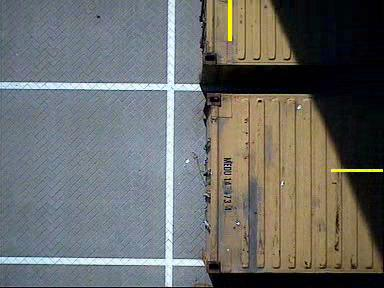groundmarker_2: (121, 35, 225, 105)
